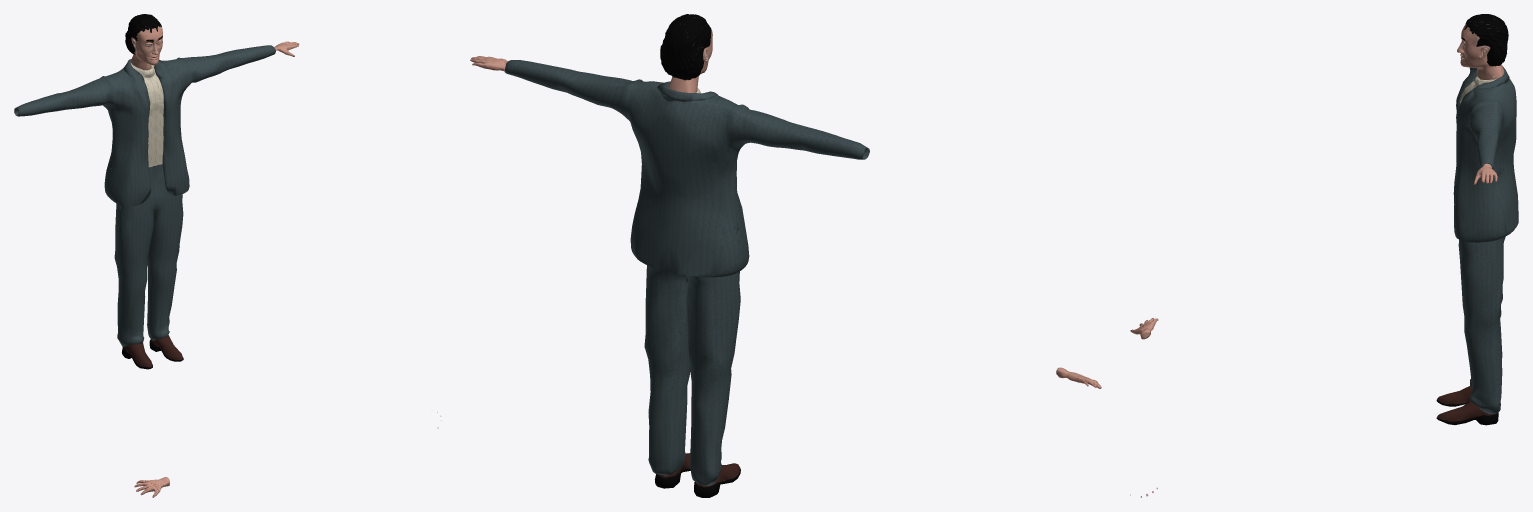
File: Chel3_1 (1).fbx
3 views of the same model, side by side, from view 1: azimuth 30°, elevation 25°; view 2: azimuth 150°, elevation 25°; view 3: azimuth 270°, elevation 25° (orthographic). The views are drawn at different scales.
Parts seen in each view (by area): view 1: Sphere.005, Pants.002, Sphere.004, Rubaha.002, boots.001; view 2: Sphere.005, Pants.002, Sphere.004, pdshv.001; view 3: Sphere.005, Pants.002, Sphere.004, boots.001, pdshv.001.
Part boxes in pixels (x1=…): Sphere.005: x1=14, y1=45, x2=275, y2=205; Pants.002: x1=114, y1=145, x2=183, y2=346; Sphere.004: x1=125, y1=14, x2=162, y2=70; Rubaha.002: x1=130, y1=62, x2=163, y2=167; boots.001: x1=123, y1=335, x2=182, y2=367; Sphere.005: x1=504, y1=60, x2=869, y2=277; Pants.002: x1=644, y1=230, x2=740, y2=485; Sphere.004: x1=660, y1=14, x2=712, y2=92; pdshv.001: x1=655, y1=468, x2=740, y2=497; Sphere.005: x1=1453, y1=66, x2=1518, y2=242; Pants.002: x1=1458, y1=236, x2=1505, y2=414; Sphere.004: x1=1457, y1=14, x2=1508, y2=79; boots.001: x1=1437, y1=386, x2=1494, y2=421; pdshv.001: x1=1436, y1=399, x2=1498, y2=425.
Size of the model in its own units: 1.72 by 1.6 by 1.81.
9 materials, 6 textured.
